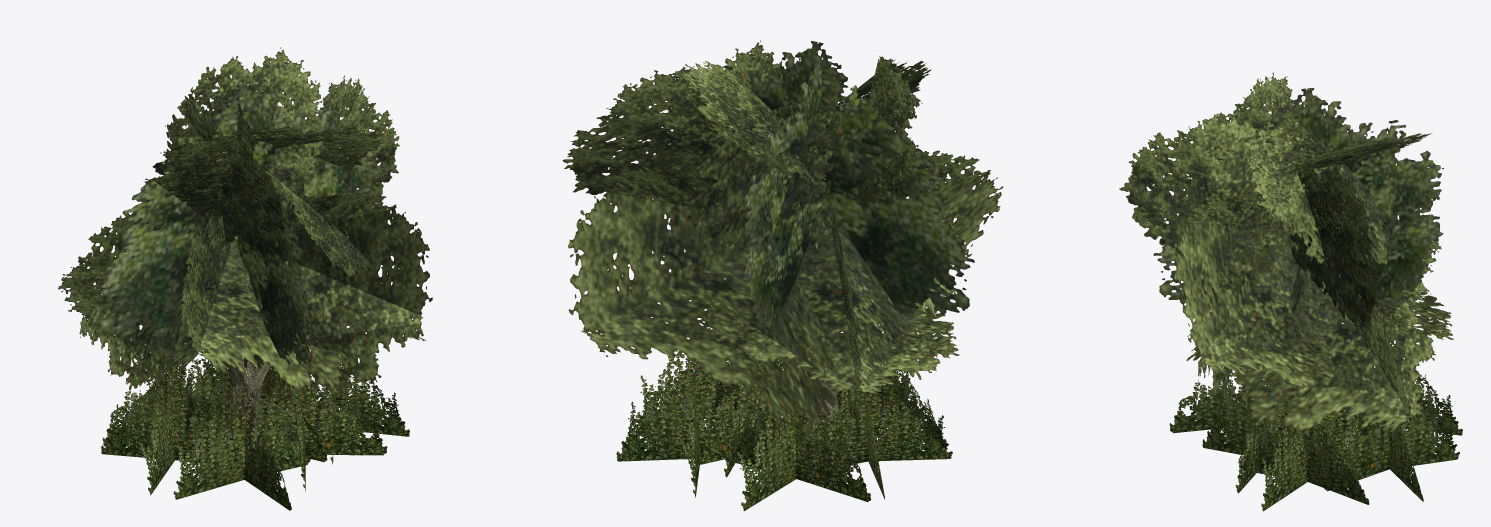
The model's file is sm_veg_tree7_big.obj.
3 views of the same model, side by side, from view 1: azimuth 30°, elevation 25°; view 2: azimuth 150°, elevation 25°; view 3: azimuth 270°, elevation 25° (orthographic). The views are drawn at different scales.
Parts seen in each view (by area): view 1: sm_veg_tree7_big; view 2: sm_veg_tree7_big; view 3: sm_veg_tree7_big.
Part boxes in pixels (bbox=[...]): sm_veg_tree7_big: bbox=[58, 47, 432, 510]; sm_veg_tree7_big: bbox=[562, 40, 1003, 510]; sm_veg_tree7_big: bbox=[1119, 72, 1462, 511].
Size of the model in its own units: 19.55 by 17.92 by 16.75.
